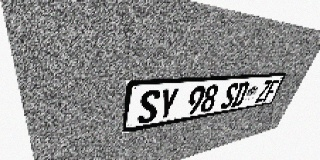8: (199, 84, 220, 113)
9: (185, 85, 207, 116)
D: (231, 82, 250, 107)
F: (263, 79, 280, 101)
S: (137, 89, 161, 125), (220, 83, 240, 109)
Y: (156, 87, 180, 121)
Z: (255, 80, 273, 103)
